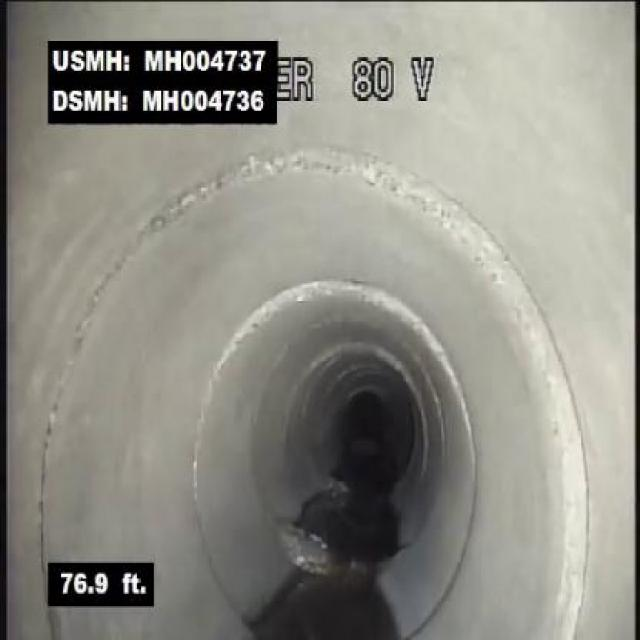Debris: (255, 506, 363, 599)
